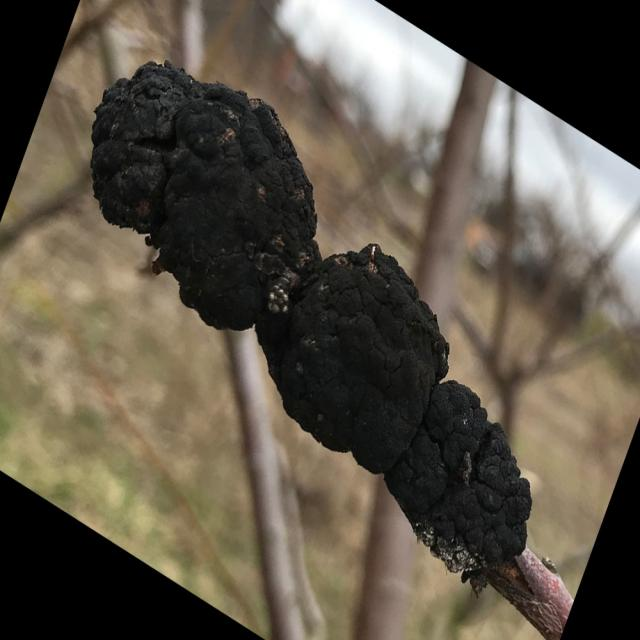Black_knot: (89, 57, 534, 581), (89, 57, 320, 333), (383, 377, 532, 577)
